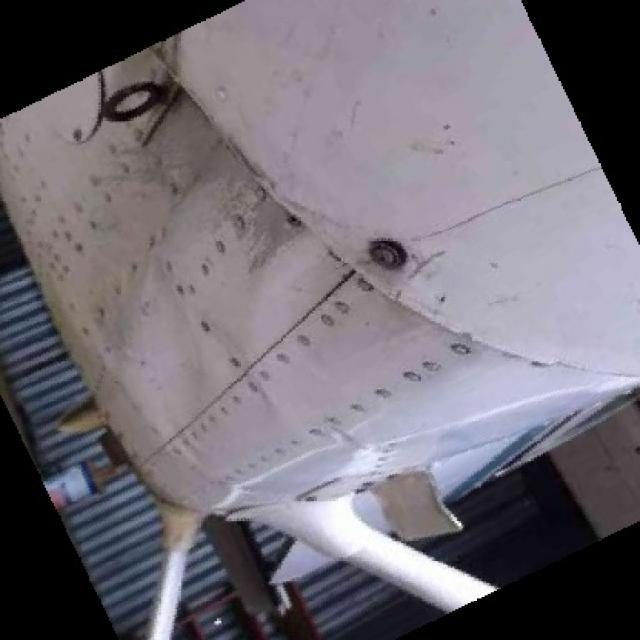dent: (264, 243, 427, 349), (129, 261, 209, 419)
